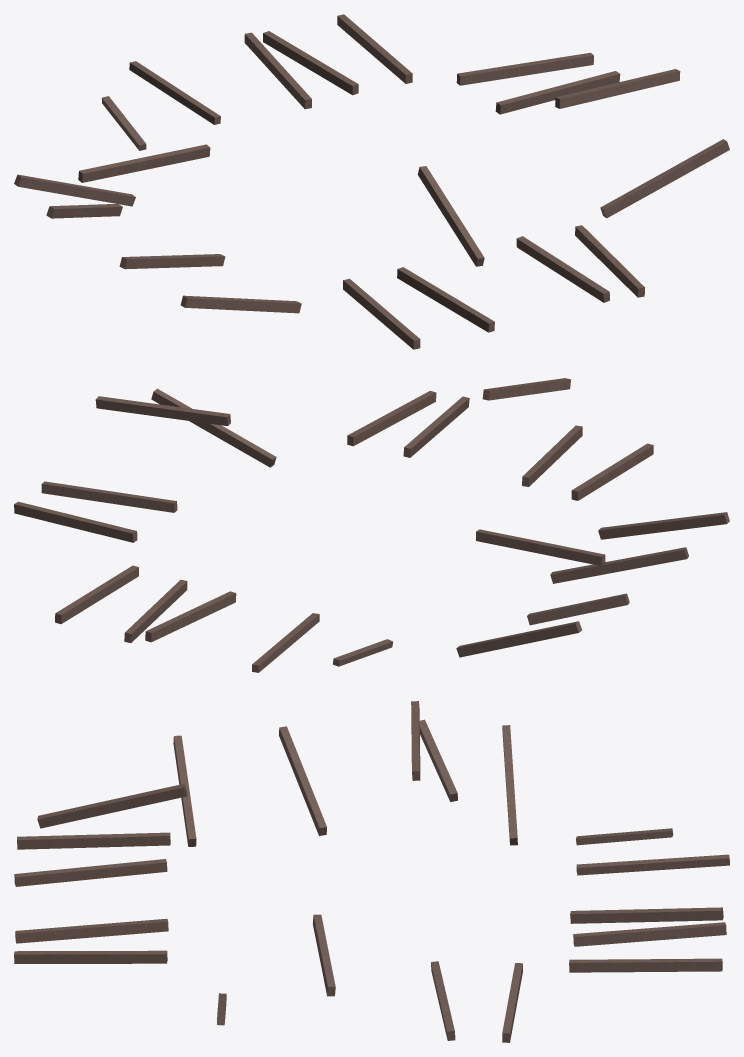
Rendered from SM_LDFest_15_Blockout00.fbx.
The picture shows the model from 3 angles, top to bottom: view 1: azimuth 30°, elevation 25°; view 2: azimuth 150°, elevation 25°; view 3: azimuth 270°, elevation 25°; orthographic projection. The views are drawn at different scales.
Visible parts, largest first — view 1: SM_LDFest_15_Blockout00; view 2: SM_LDFest_15_Blockout00; view 3: SM_LDFest_15_Blockout00.
Boxes of the visible parts, box(x1,y1,x2,y2) form: SM_LDFest_15_Blockout00: box(14, 14, 729, 349); SM_LDFest_15_Blockout00: box(14, 378, 729, 672); SM_LDFest_15_Blockout00: box(14, 701, 729, 1042).
Size of the model in its own units: 6014 by 1205 by 6135.
